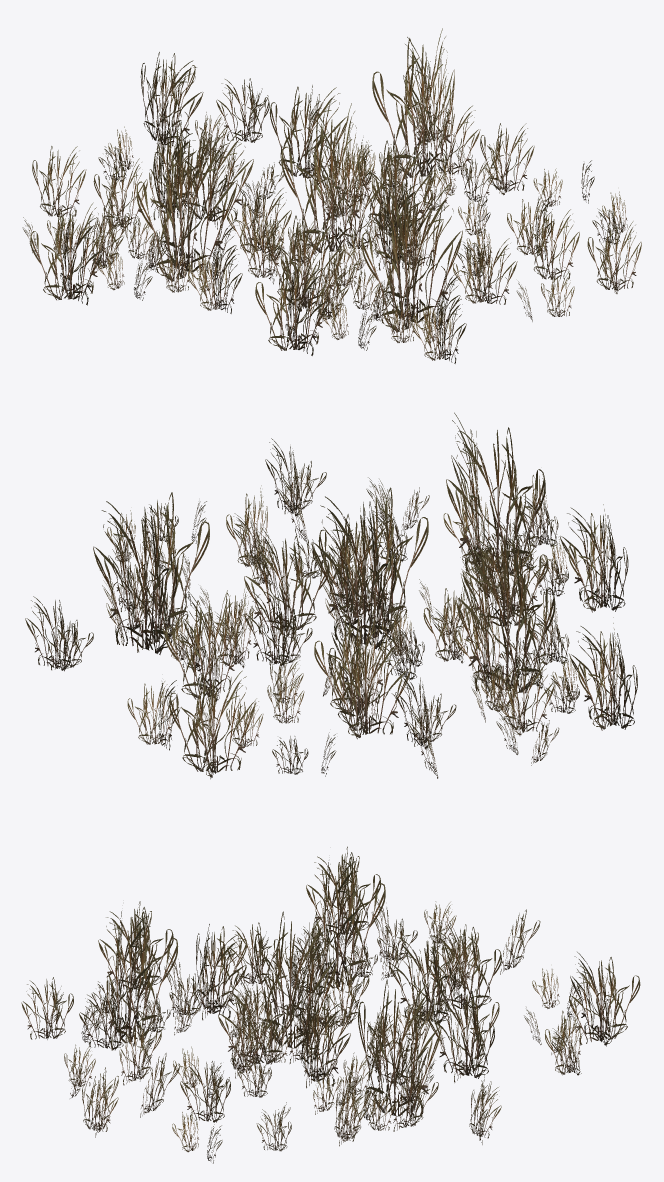
Rendered from gras-long-dry.dae.
3 views of the same model, one above another, from view 1: azimuth 30°, elevation 25°; view 2: azimuth 150°, elevation 25°; view 3: azimuth 270°, elevation 25° (orthographic). The views are drawn at different scales.
Visible parts, largest first — view 1: gras_long; view 2: gras_long; view 3: gras_long.
Boxes of the visible parts, bbox=[...] form: gras_long: bbox=[22, 28, 641, 363]; gras_long: bbox=[25, 412, 637, 779]; gras_long: bbox=[21, 846, 640, 1163].
Size of what is drawn, in the model's own units: 361 by 385 by 90.27.
